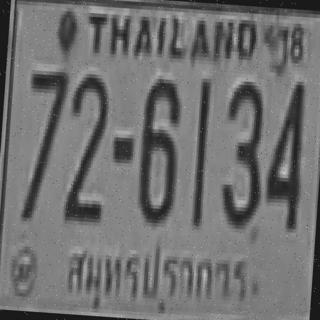N01: (189, 78, 210, 226)
N02: (62, 69, 110, 222)
N03: (218, 76, 266, 226)
N04: (262, 76, 306, 229)
N06: (134, 74, 180, 220)
N07: (19, 66, 68, 219)
P57: (57, 230, 256, 320)
